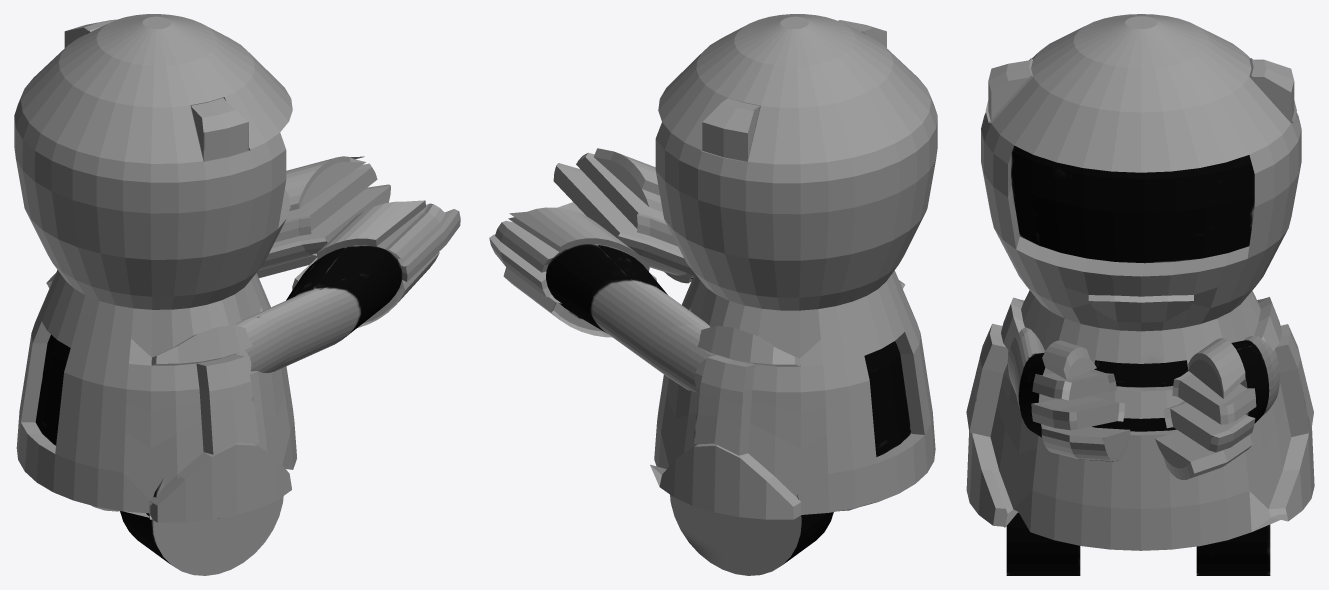
File: player1.fbx
The picture shows the model from 3 angles, left to right: view 1: azimuth 30°, elevation 25°; view 2: azimuth 150°, elevation 25°; view 3: azimuth 270°, elevation 25°; orthographic projection. The views are drawn at different scales.
Visible parts, largest first — view 1: Cylinder; view 2: Cylinder; view 3: Cylinder.
Boxes of the visible parts, box(x1,y1,x2,y2) form: Cylinder: box(14, 14, 460, 575); Cylinder: box(489, 14, 937, 575); Cylinder: box(966, 14, 1314, 575).
Size of the model in its own units: 483 by 594 by 343.
